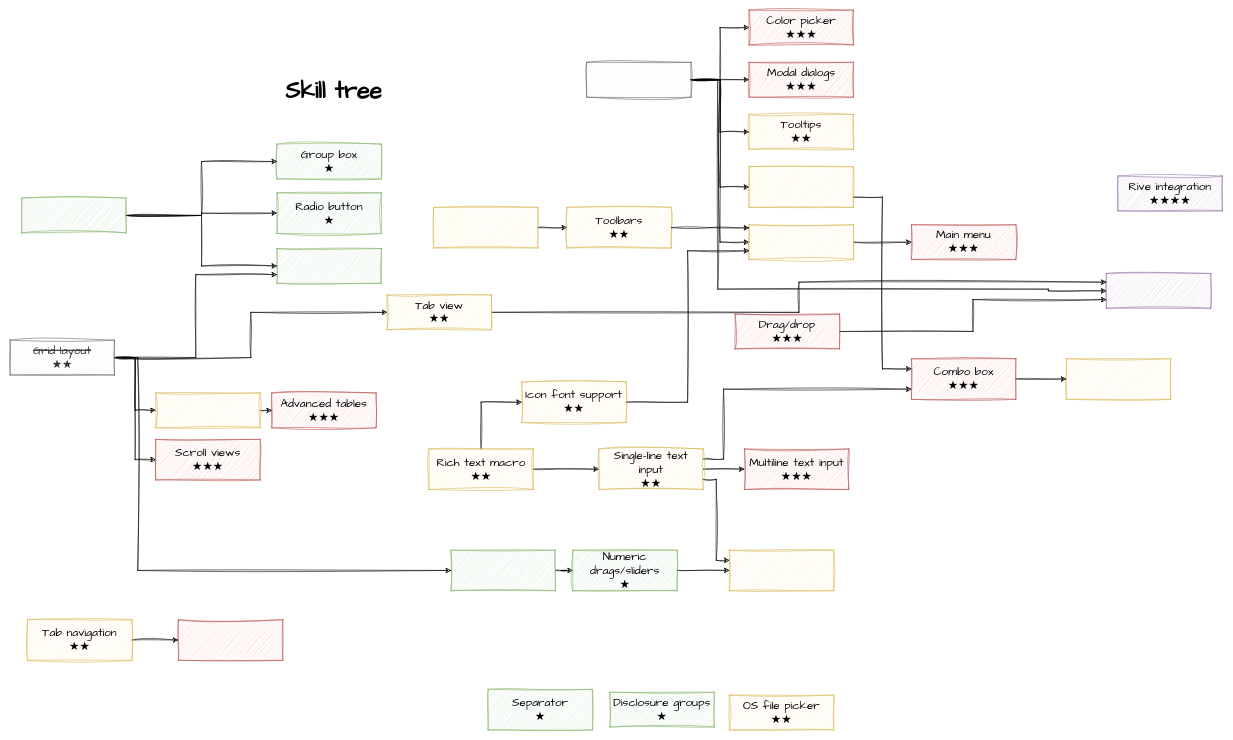
This 1233x740 diagram has some shape labels left out. Here are the shapes that lost their labels. From the top down, the centre of each, then its label:
[638,79]: Popup windows ★★★
[800,186]: Pull downs ★ ★
[73,215]: Relative layouts ★
[485,227]: Image widgets ★ ★
[800,242]: Context menus ★★
[328,265]: Form layout ★
[1158,290]: Docking system ★ ★★ ★
[1118,378]: Combo box with autocomplete ★ ★★
[207,410]: Tables ★★ ★
[502,570]: Simple spinner (numeric) ★
[781,570]: Advanced numeric inputs ★ ★
[230,639]: Keyboard navigation ★ ★★
